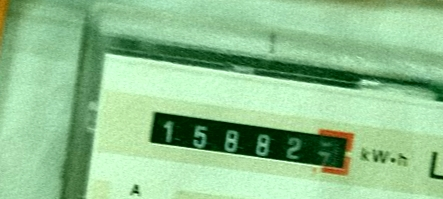1: (159, 119, 177, 145)
2: (284, 134, 304, 162)
5: (190, 123, 209, 150)
7: (315, 148, 331, 166)
8: (221, 128, 241, 154), (253, 130, 272, 157)
screen: (133, 95, 366, 188)
